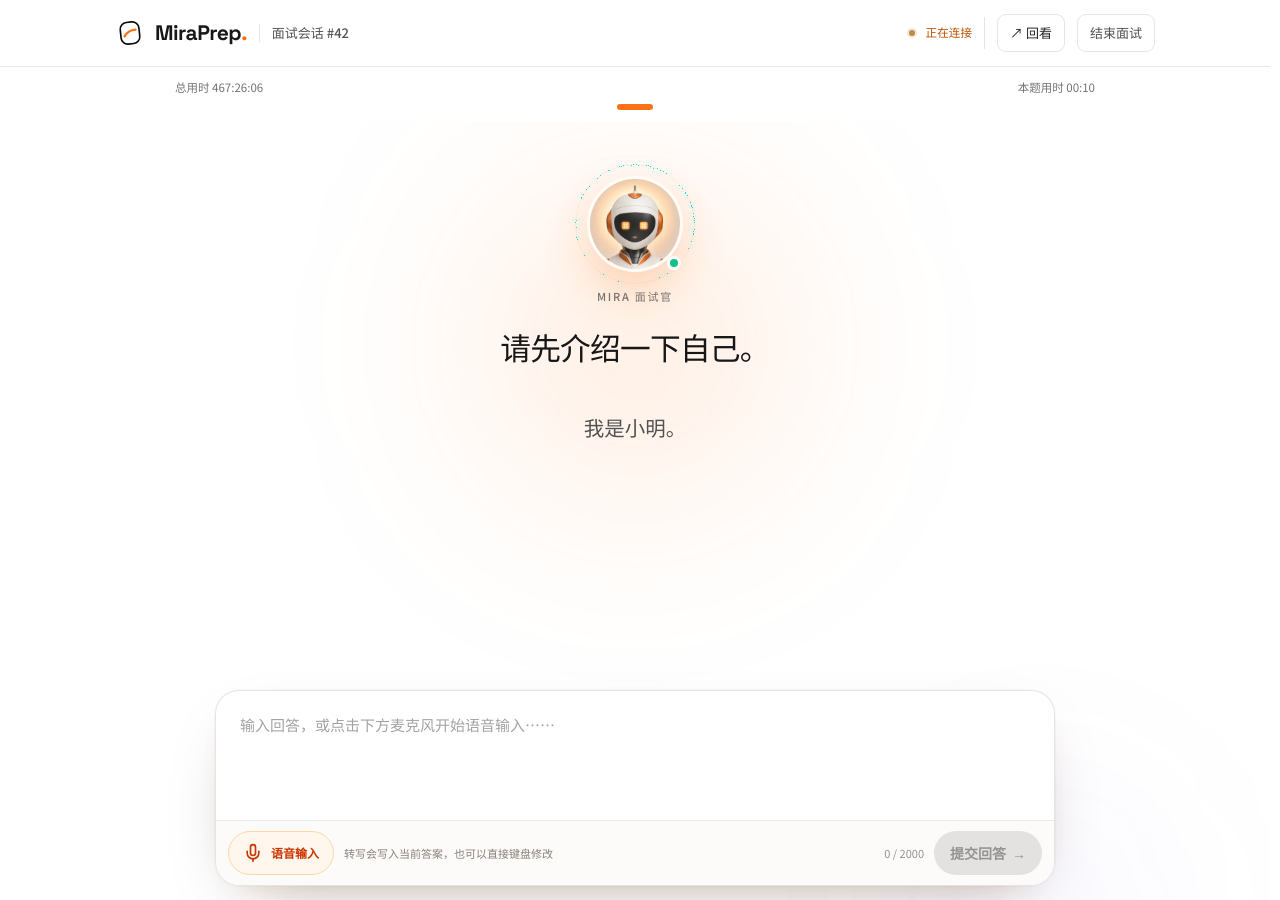
Scenario: InterviewClient runtime › preserves the typed draft when a requested voice link is refused
Expected: the text "请先介绍一下自己。" is shown, x1=500 y1=324 x2=770 y2=370
Type "不能丢失的文字草稿" into the text box named "你的回答" at (635, 753), box x1=216 y1=691 x2=1054 y2=815
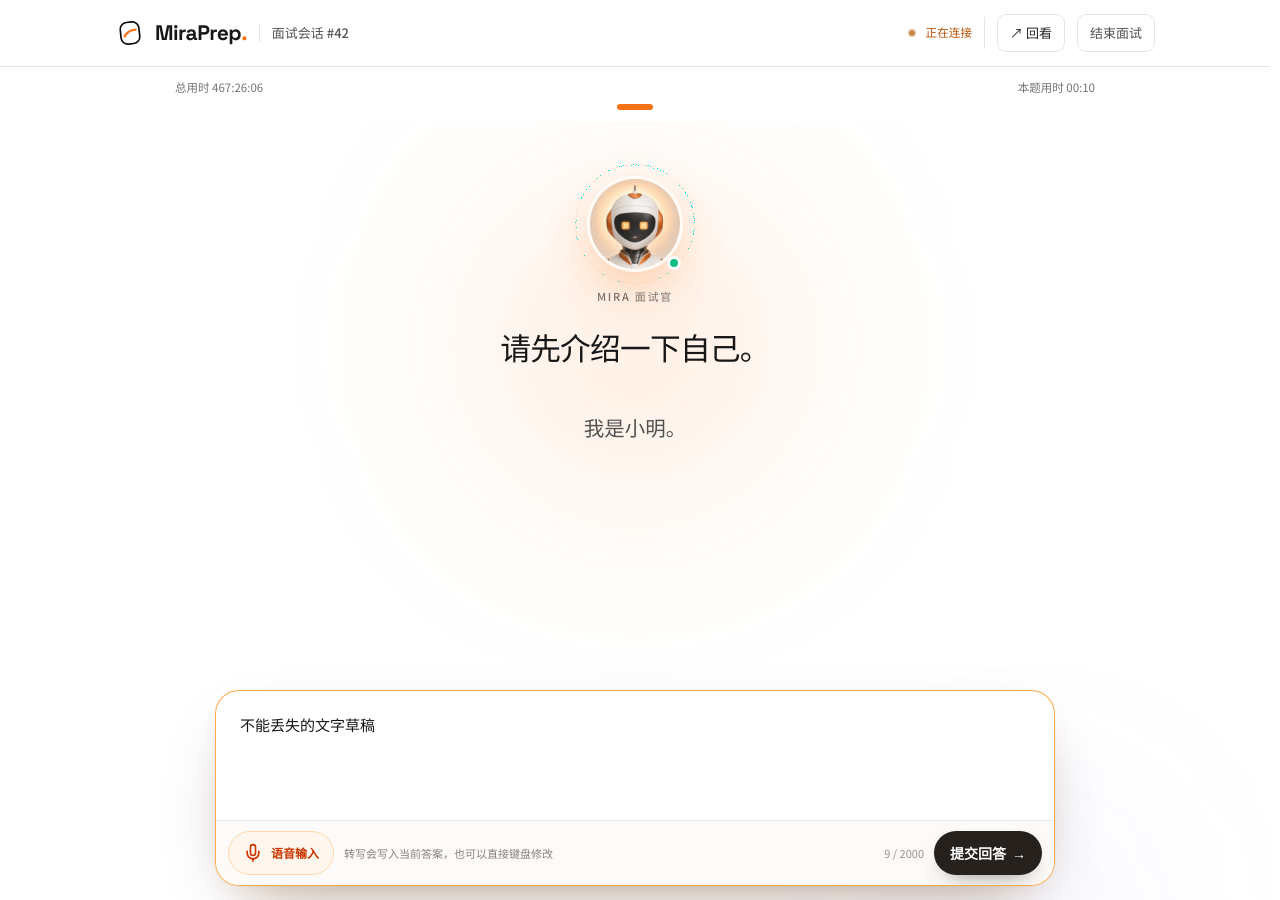
Click the button "语音输入" at (281, 853), box x1=228 y1=831 x2=334 y2=875
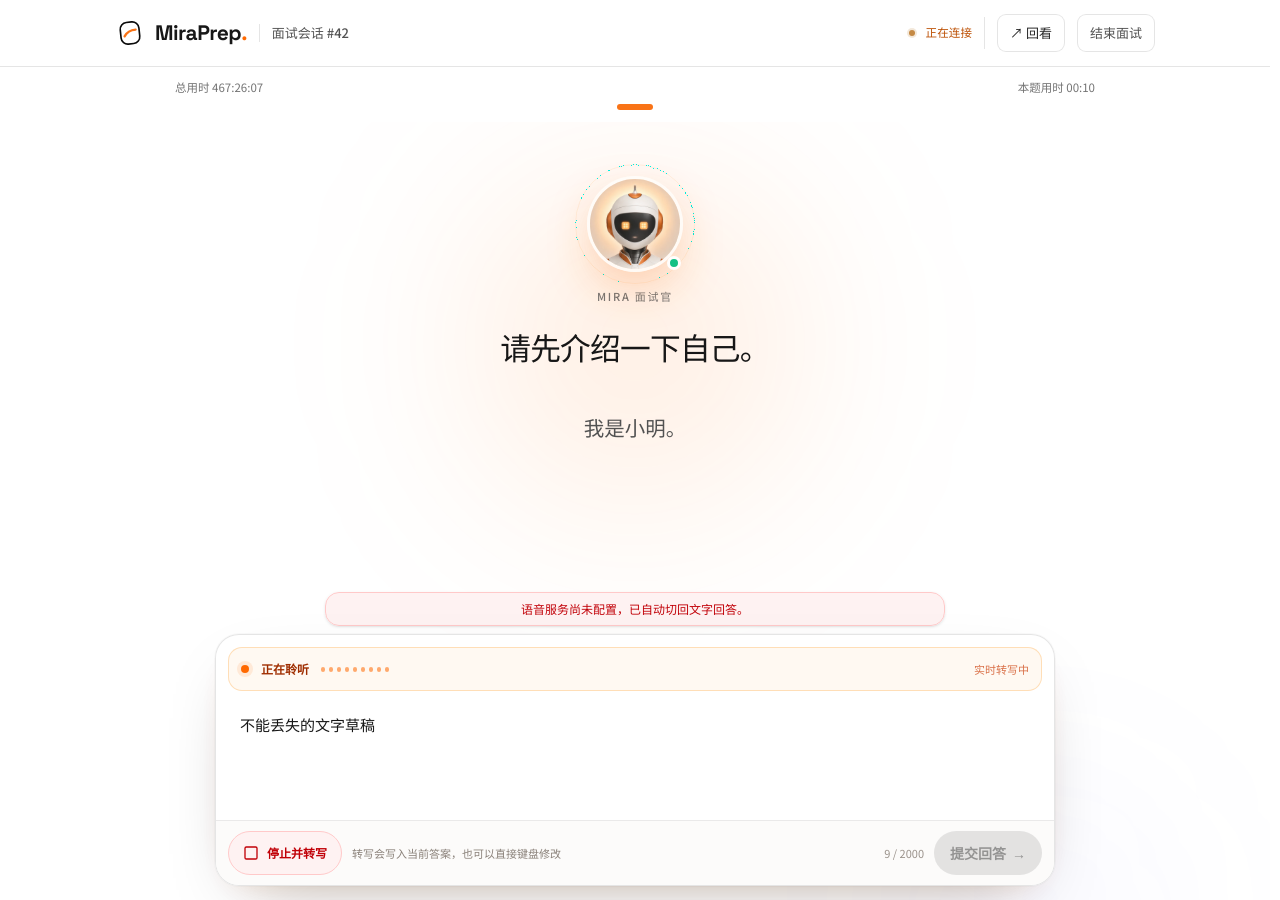
Expected: the text box named "你的回答" is enabled, x1=216 y1=691 x2=1054 y2=815
Expected: the message "语音服务尚未配置，已自动切回文字回答。" is shown, x1=325 y1=592 x2=945 y2=626
